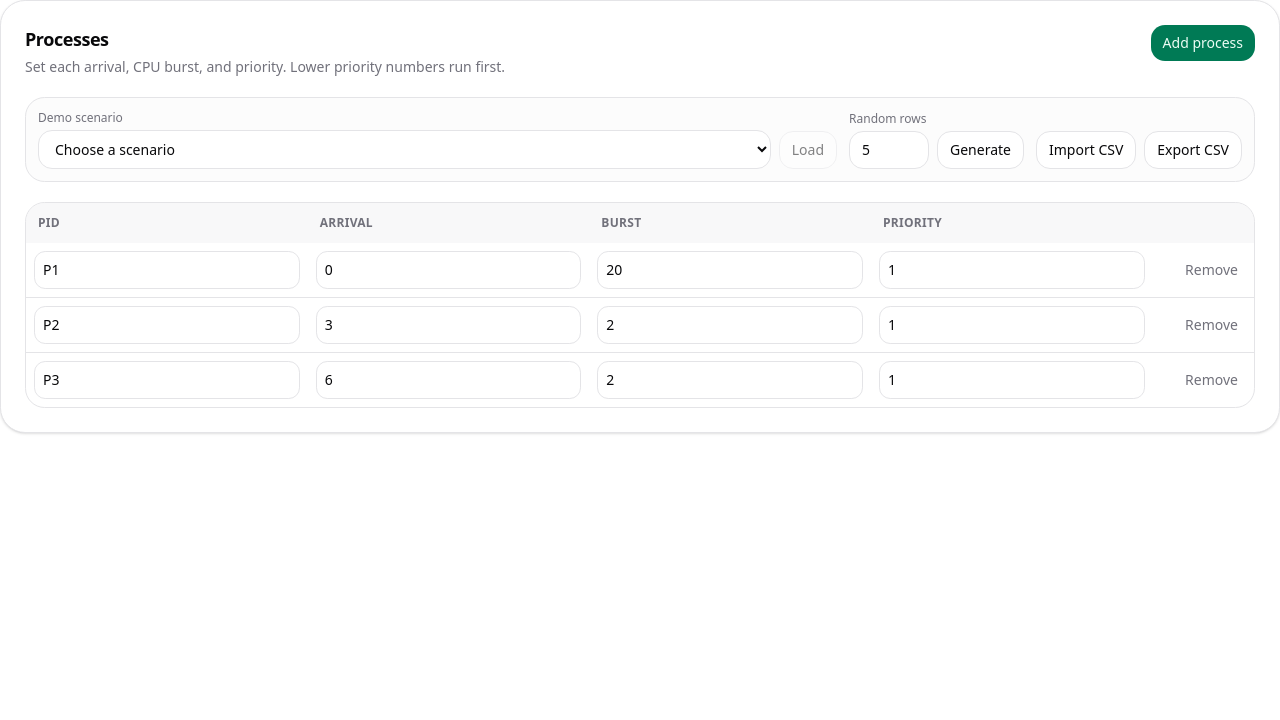
Test: ProcessTable › loads a preset and generates the selected number of rows
The width and height of the screenshot is (1280, 720).
Select "Similar bursts" in the dropdown labelled "Demo scenario": (404, 150) x1=38 y1=130 x2=771 y2=169
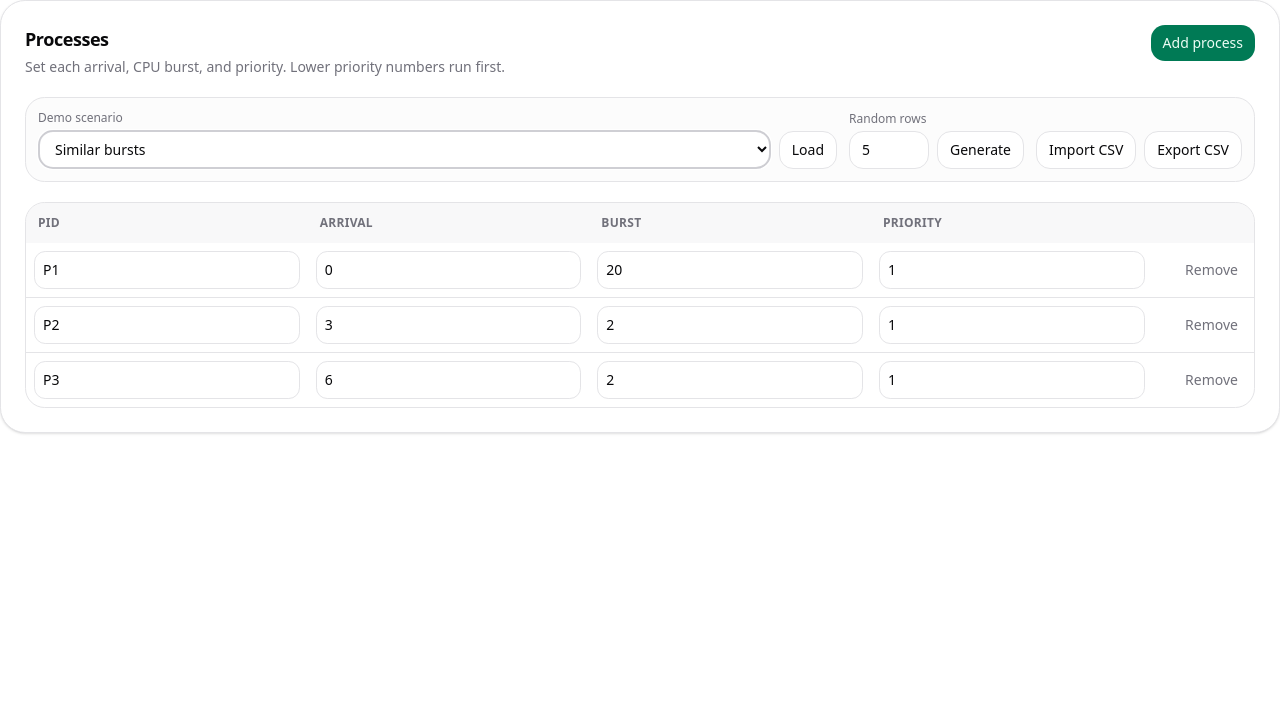
Click the button "Load": (808, 150) x1=779 y1=131 x2=837 y2=169
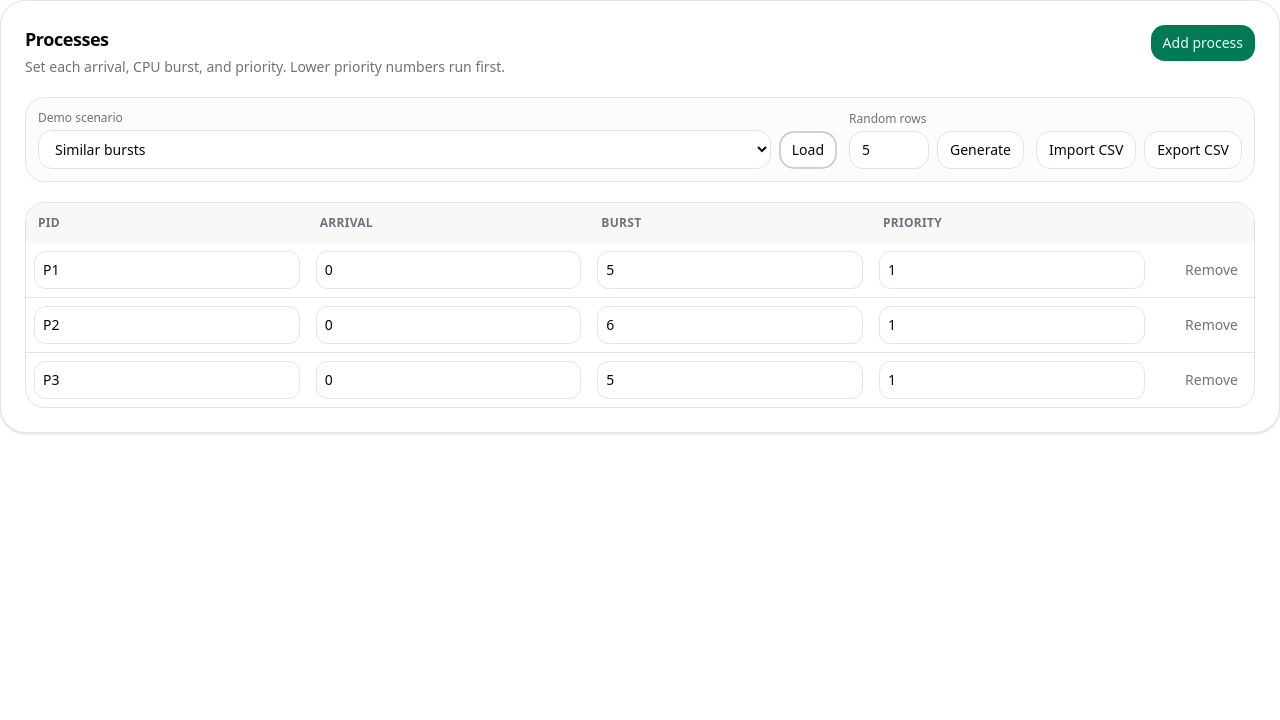
Result: the number field named "Burst for row 1" holds "5" at x1=597 y1=251 x2=863 y2=289
Replace the text in the number field labelled "Random rows" with "4": (889, 150) x1=849 y1=131 x2=929 y2=169
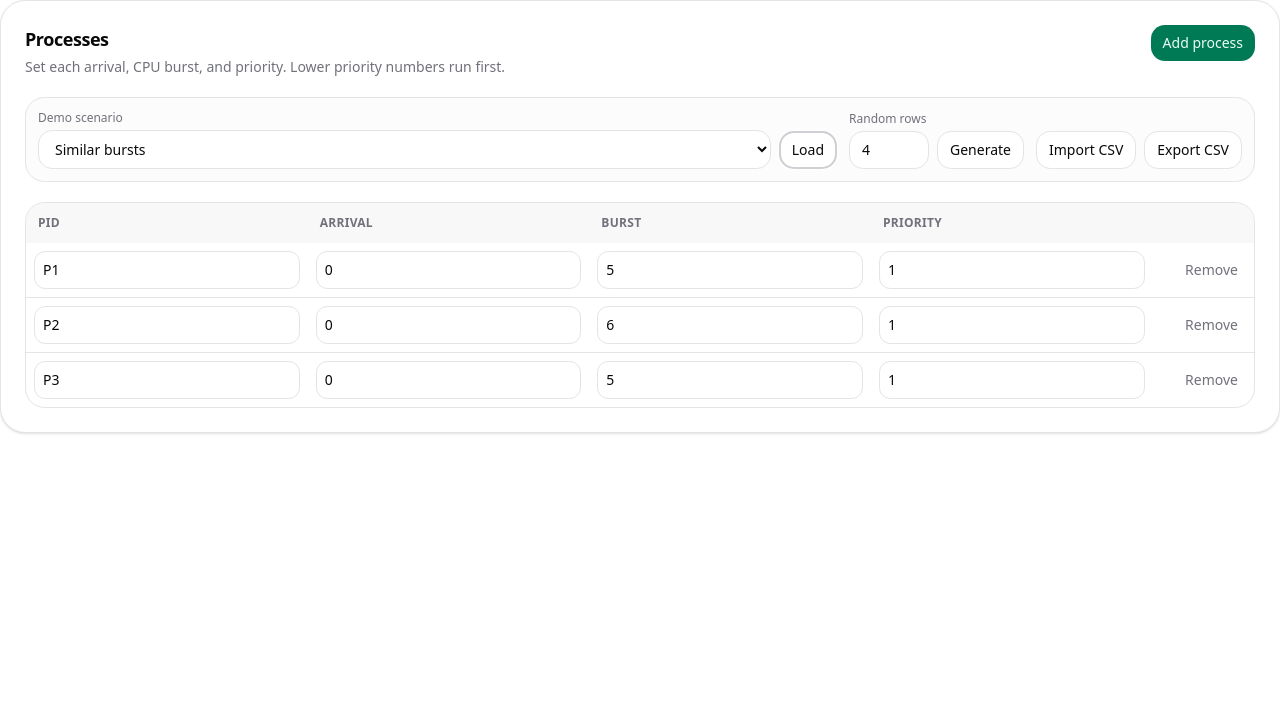
Click the button "Generate": (980, 150) x1=937 y1=131 x2=1024 y2=169
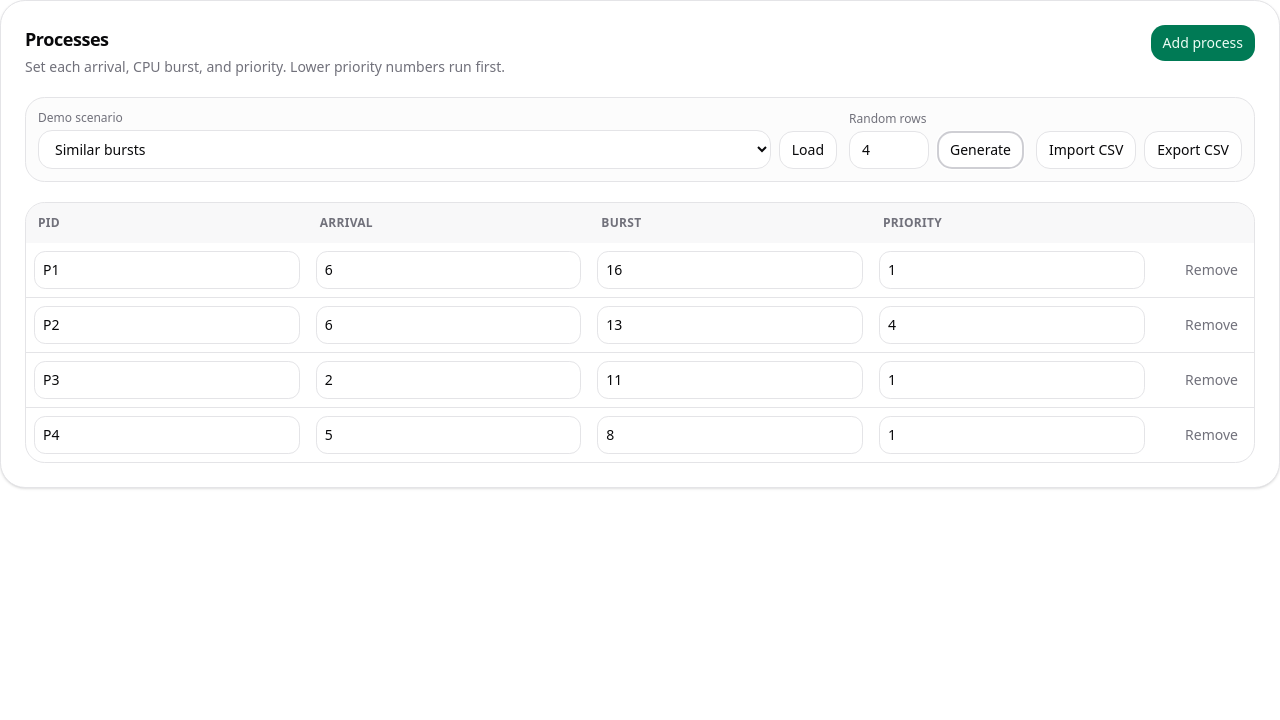
Result: the field named "PID for row 4" holds "P4" at x1=34 y1=416 x2=300 y2=454
